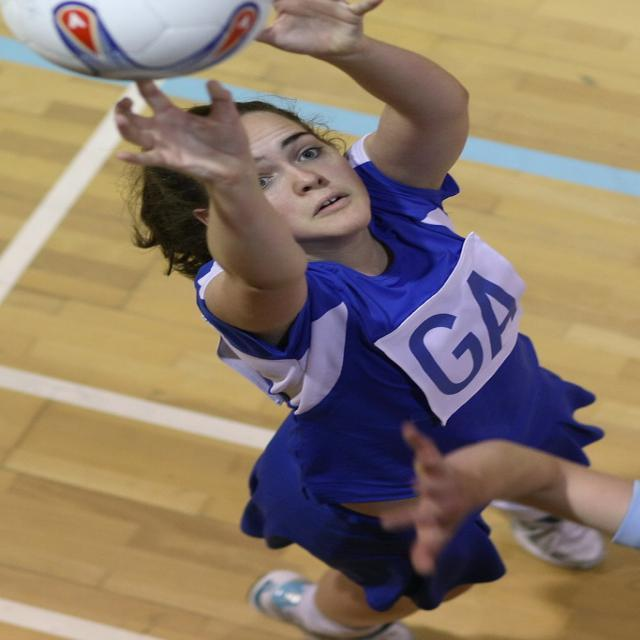football: (1, 0, 280, 92)
